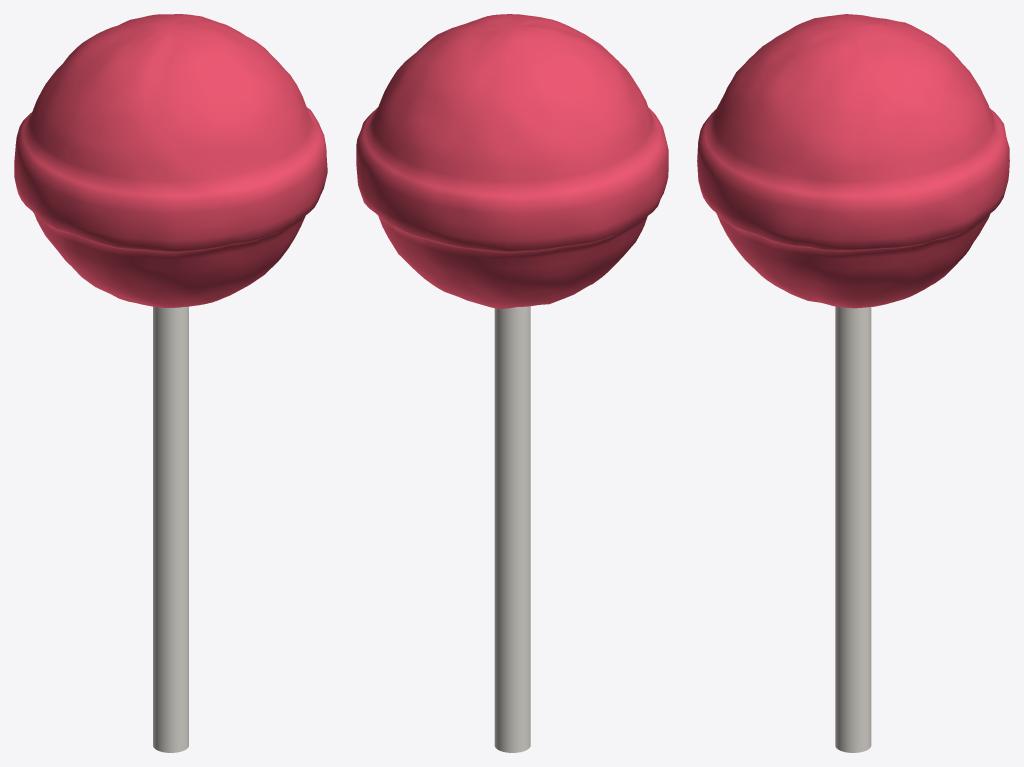
Rendered from lollipop.glb.
3 views of the same model, side by side, from view 1: azimuth 30°, elevation 25°; view 2: azimuth 150°, elevation 25°; view 3: azimuth 270°, elevation 25° (orthographic).
Bounding box in the file's own units: 0.396 × 1 × 0.3941.
